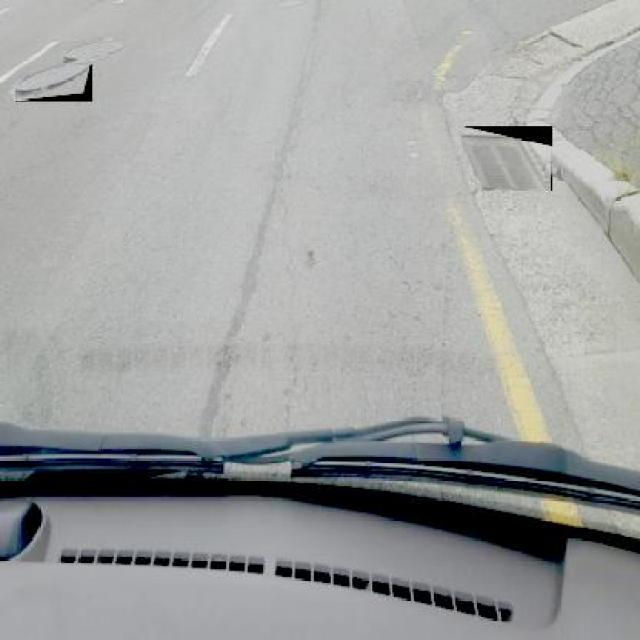Manhole: (462, 126, 552, 192), (16, 66, 92, 102), (64, 36, 127, 62)
